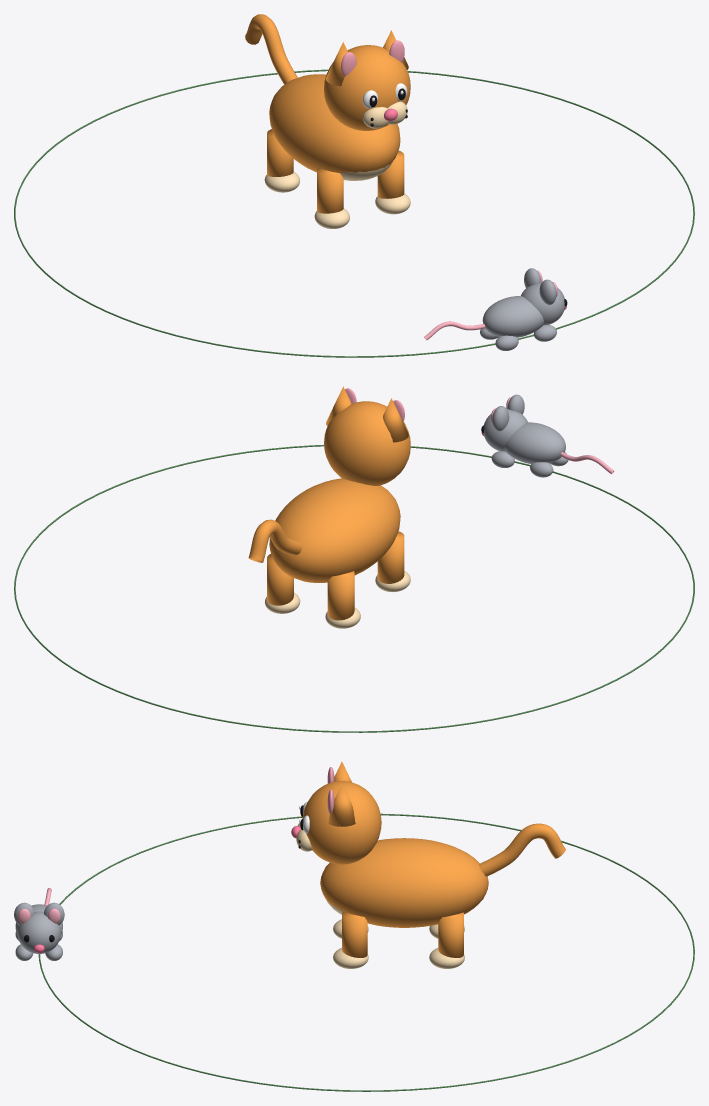
Rendered from cat.glb.
3 renders of one model, top to bottom at view 1: azimuth 30°, elevation 25°; view 2: azimuth 150°, elevation 25°; view 3: azimuth 270°, elevation 25°, orthographic. The views are drawn at different scales.
Parts seen in each view (by area): view 1: Cat Body, Cat Head, Circular Mouse Path, Mouse Body, Cat Tail, Cat Leg.001, Cat Leg.003, Cat Leg.002, Mouse Head, Cat Paw.003, Cat Paw.001, Cat Paw.002; view 2: Cat Body, Cat Head, Circular Mouse Path, Mouse Body, Cat Tail, Cat Leg.002, Cat Leg.001, Cat Leg, Mouse Head, Cat Ear.001; view 3: Cat Body, Cat Head, Circular Mouse Path, Cat Tail, Mouse Head, Cat Leg.003, Cat Leg, Cat Ear.
Boxes of the visible parts, bbox=[...] form: Cat Body: bbox=[269, 74, 400, 172]; Cat Head: bbox=[324, 45, 410, 130]; Circular Mouse Path: bbox=[14, 69, 694, 357]; Mouse Body: bbox=[482, 296, 544, 337]; Cat Tail: bbox=[245, 14, 297, 84]; Cat Leg.001: bbox=[317, 168, 343, 213]; Cat Leg.003: bbox=[377, 150, 404, 198]; Cat Leg.002: bbox=[267, 129, 293, 176]; Mouse Head: bbox=[521, 282, 565, 325]; Cat Paw.003: bbox=[375, 193, 410, 214]; Cat Paw.001: bbox=[314, 208, 349, 228]; Cat Paw.002: bbox=[264, 172, 299, 192]; Cat Body: bbox=[269, 478, 400, 582]; Cat Head: bbox=[324, 401, 410, 485]; Circular Mouse Path: bbox=[14, 445, 694, 732]; Mouse Body: bbox=[504, 422, 565, 463]; Cat Tail: bbox=[248, 519, 301, 562]; Cat Leg.002: bbox=[327, 571, 354, 620]; Cat Leg.001: bbox=[377, 531, 404, 583]; Cat Leg: bbox=[267, 554, 293, 605]; Mouse Head: bbox=[483, 408, 527, 451]; Cat Ear.001: bbox=[383, 398, 408, 442]; Cat Body: bbox=[320, 838, 488, 927]; Cat Head: bbox=[302, 781, 381, 864]; Circular Mouse Path: bbox=[38, 813, 694, 1091]; Cat Tail: bbox=[479, 823, 565, 876]; Mouse Head: bbox=[17, 911, 60, 953]; Cat Leg.003: bbox=[342, 911, 367, 957]; Cat Leg: bbox=[438, 912, 463, 957]; Cat Ear: bbox=[328, 784, 355, 826].
Size of what is drawn, in the model's own units: 6.61 by 2.01 by 6.86.
